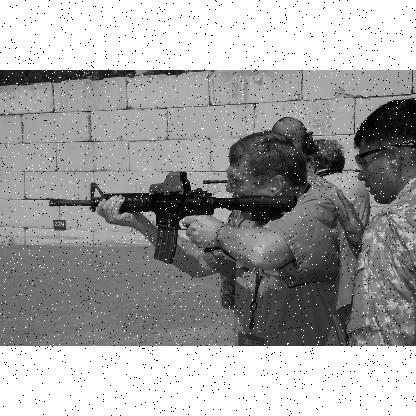gun: (49, 172, 294, 262)
